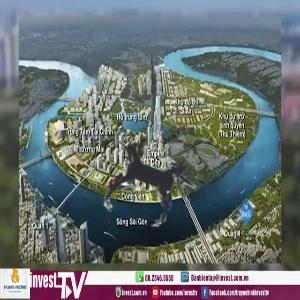drone: (70, 98, 236, 264)
